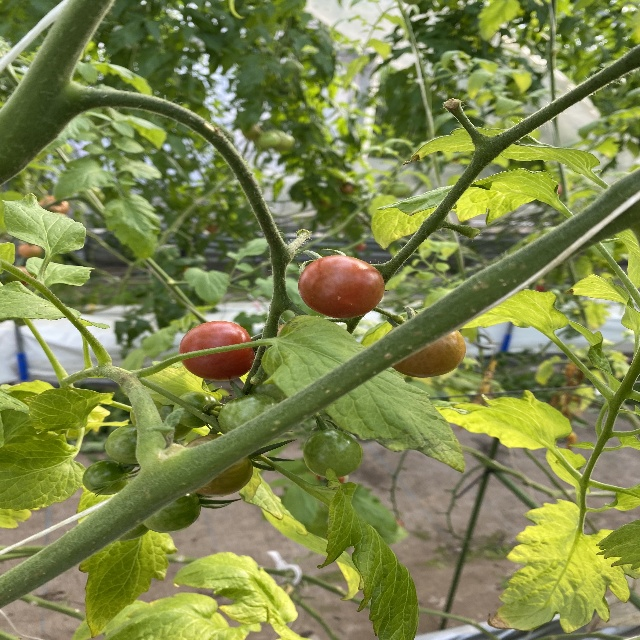l_fully_ripened: (299, 254, 385, 319), (180, 321, 256, 381)
l_green: (302, 429, 362, 478), (141, 491, 202, 534), (217, 393, 277, 434), (174, 392, 221, 428), (83, 460, 129, 496), (105, 423, 140, 465)
l_half_ripened: (180, 434, 254, 497), (391, 331, 466, 378)
